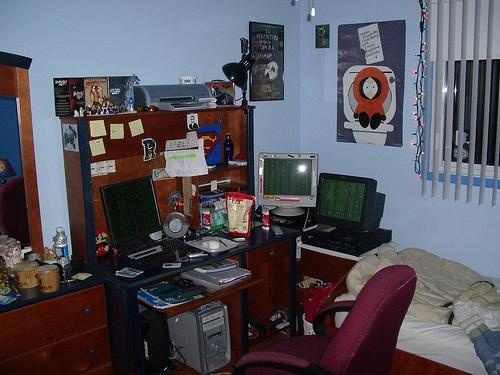bottle: (54, 228, 73, 279)
chair: (234, 265, 417, 375)
tvmonitor: (100, 177, 163, 252), (314, 173, 386, 233), (259, 153, 320, 219)
